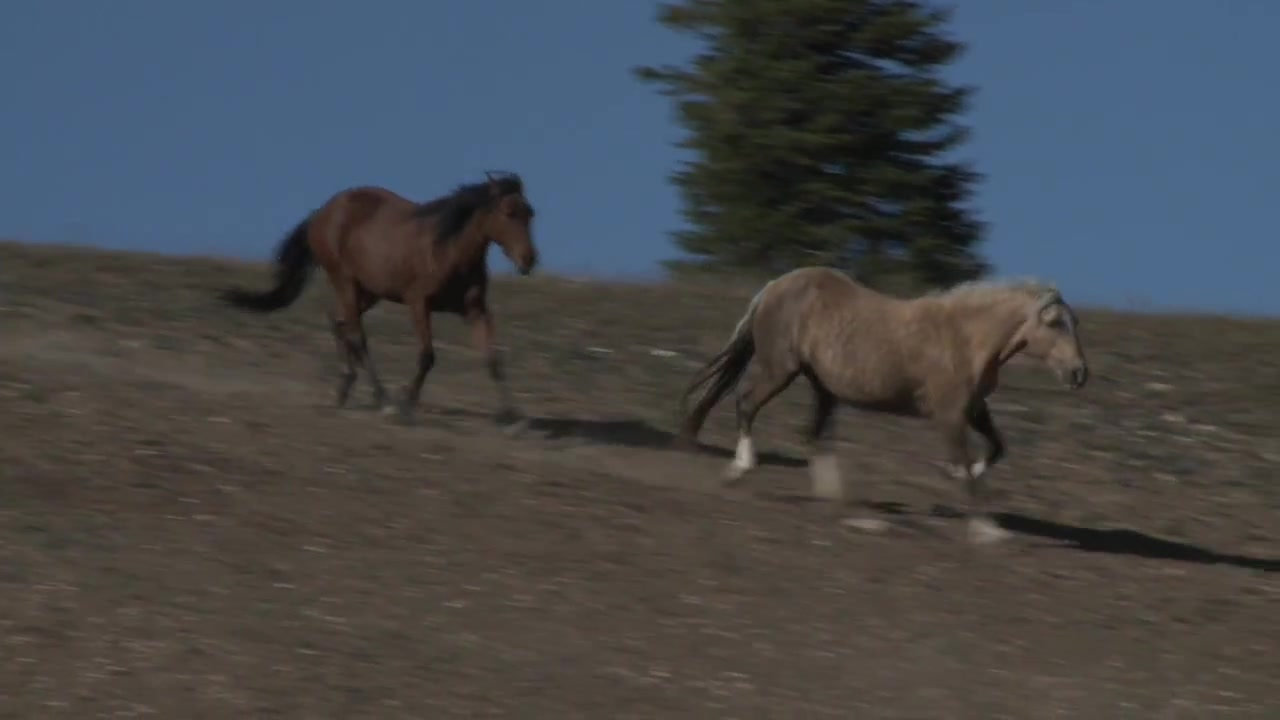horse: (674, 261, 1092, 505), (218, 168, 542, 429)
